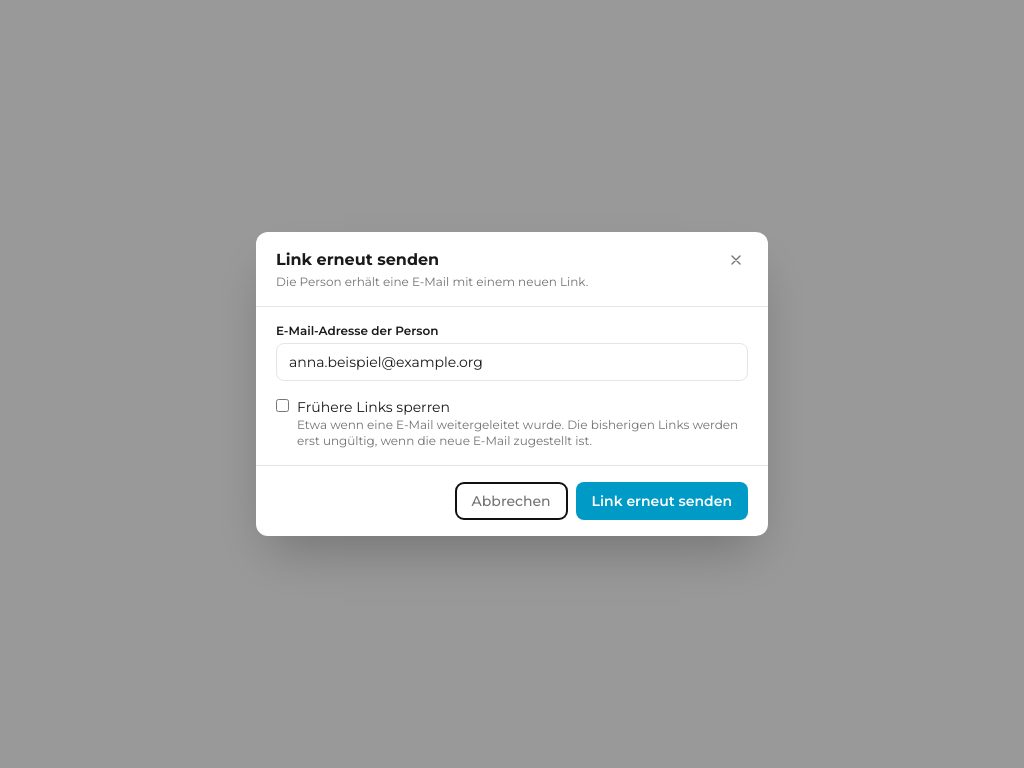
Link erneut senden (EP-16, E-5) › nicht freigegebene Adresse: rot und gesperrt
The width and height of the screenshot is (1024, 768).
Replace the text in the field labelled "E-Mail-Adresse der Person" with "jemand@gmail.com" at (512, 362), box 276,343 -> 748,381
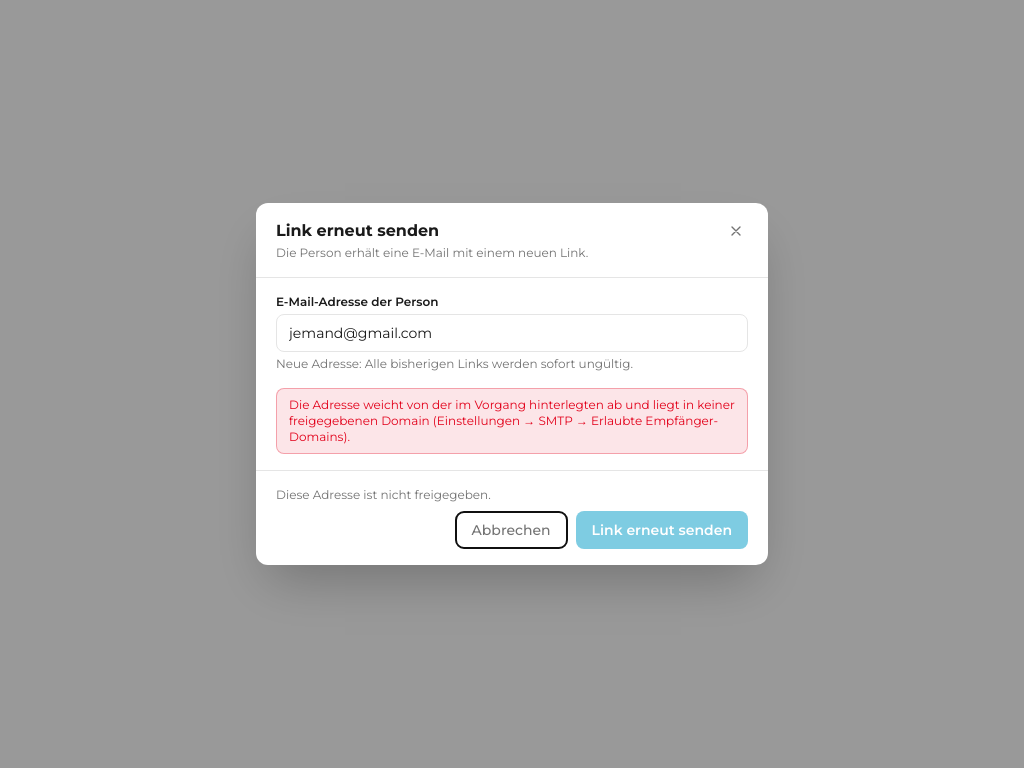
Now the button "Link erneut senden" is disabled, box 576,511 -> 748,549
